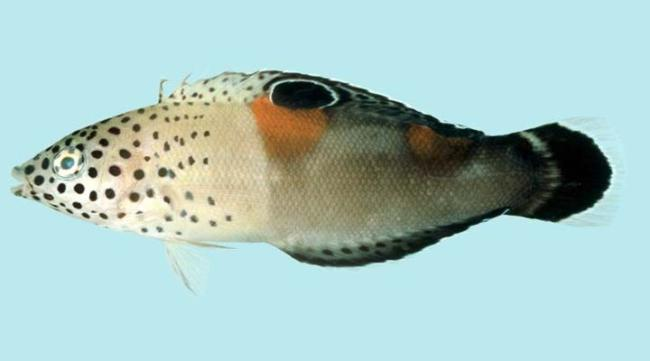fish: (11, 70, 623, 295)
